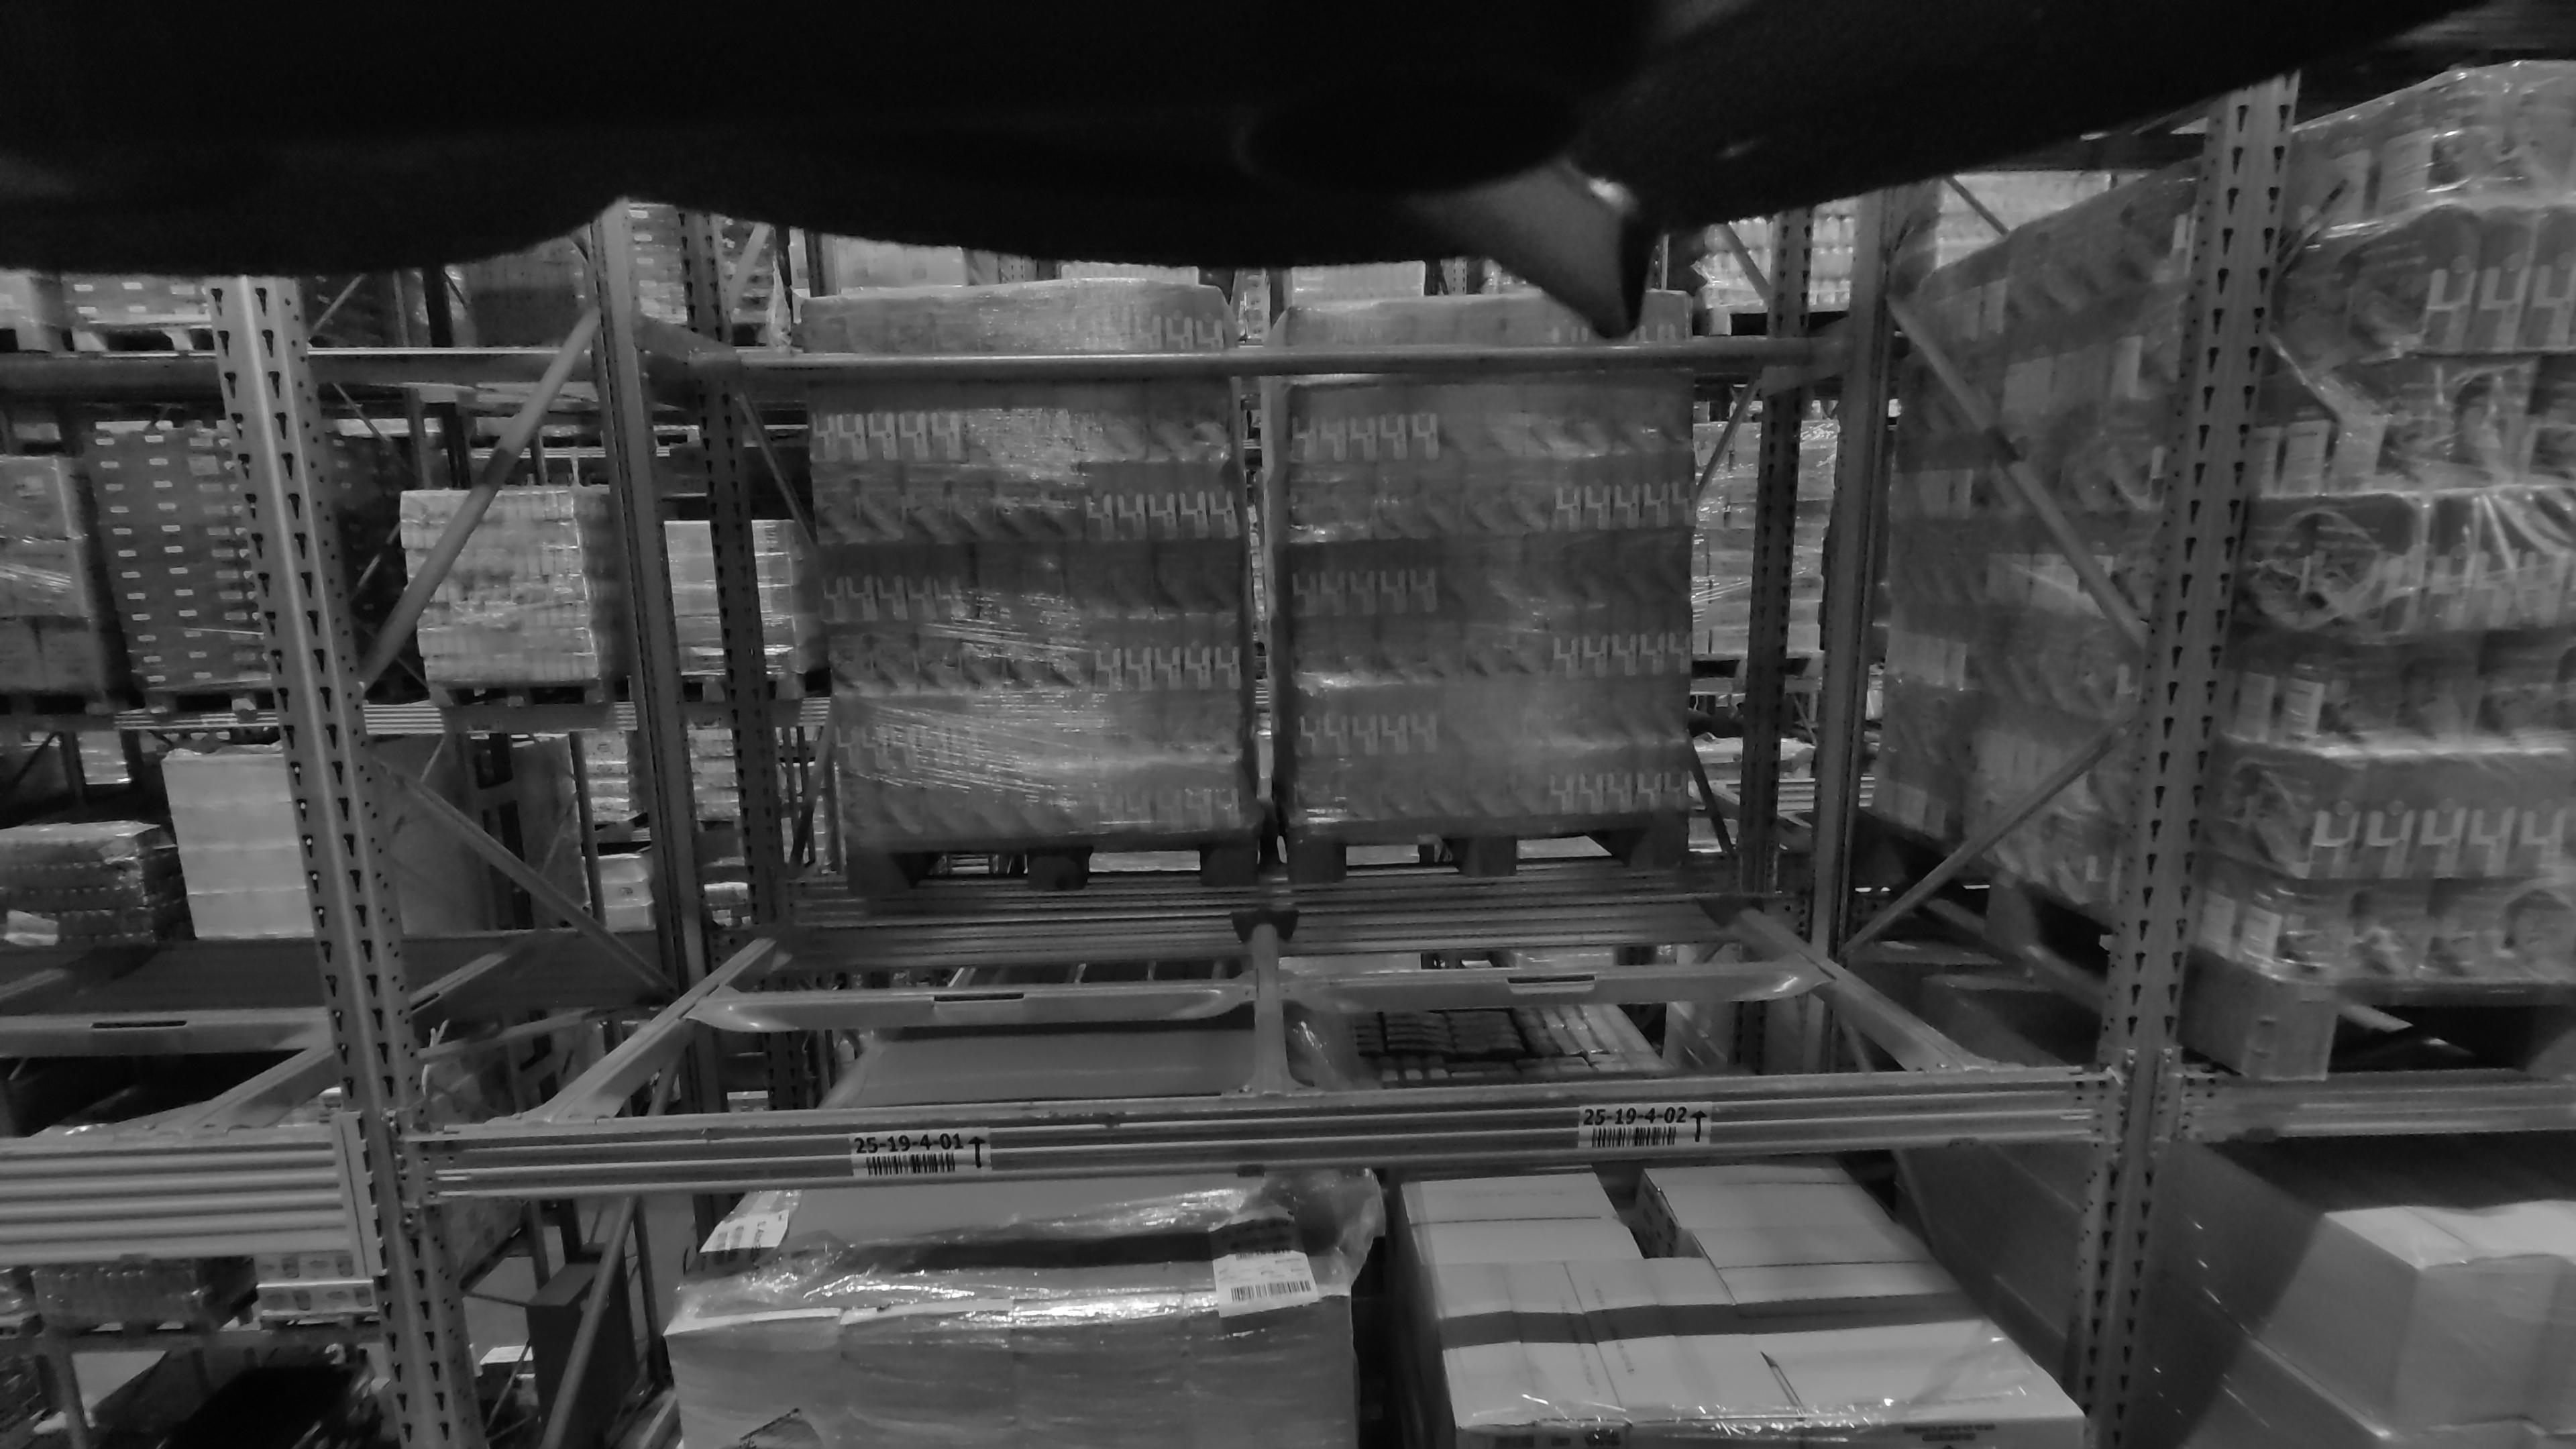empty-shelf: (577, 172, 1235, 1086), (1320, 239, 1974, 1077)
